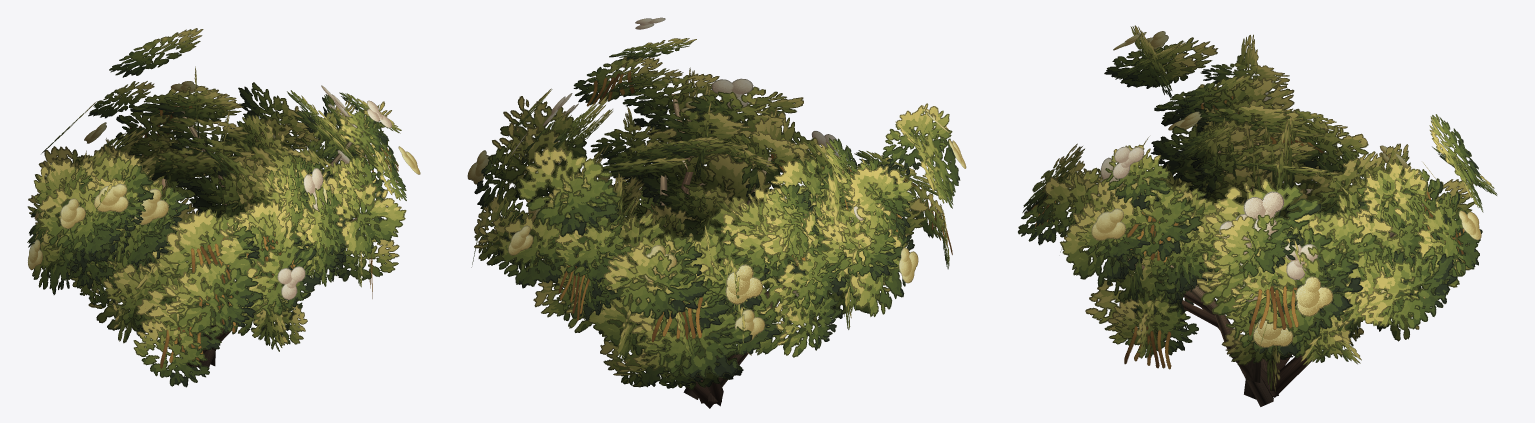
The model's file is a03_thorny_shrub_med.glb.
3 renders of one model, left to right at view 1: azimuth 30°, elevation 25°; view 2: azimuth 150°, elevation 25°; view 3: azimuth 270°, elevation 25°, orthographic. The views are drawn at different scales.
Parts seen in each view (by area): view 1: A03_med_Shrub, A03_med_Flowers, A03_med_Pods; view 2: A03_med_Shrub, A03_med_Flowers, A03_med_Pods; view 3: A03_med_Shrub, A03_med_Flowers, A03_med_Pods.
Part boxes in pixels (left/top/right/bottom): A03_med_Shrub: left=27, top=28, right=406, bottom=387; A03_med_Flowers: left=28, top=81, right=420, bottom=299; A03_med_Pods: left=91, top=106, right=398, bottom=368; A03_med_Shrub: left=471, top=38, right=960, bottom=408; A03_med_Flowers: left=467, top=17, right=966, bottom=342; A03_med_Pods: left=509, top=71, right=952, bottom=342; A03_med_Shrub: left=1018, top=25, right=1497, bottom=406; A03_med_Flowers: left=1040, top=31, right=1481, bottom=347; A03_med_Pods: left=1026, top=96, right=1466, bottom=369.
Size of the model in its own units: 1.89 by 1.28 by 1.86.
1 material, 1 textured.
